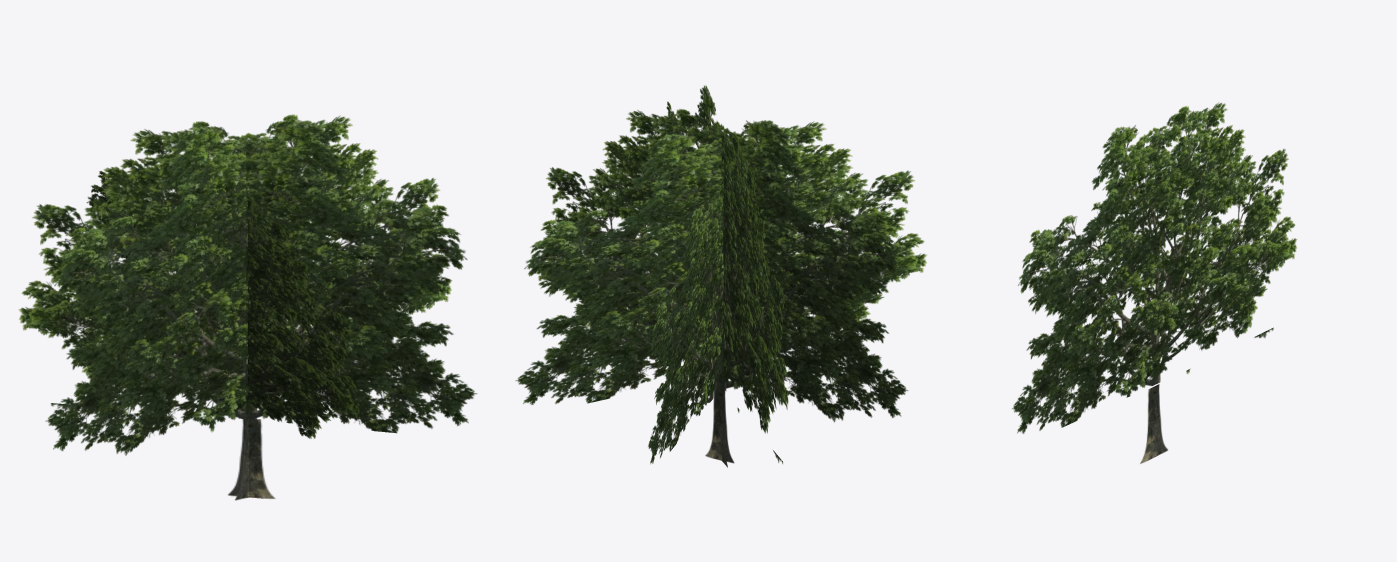
The model's file is trees_and_bush_pack_tree_small.glb.
3 renders of one model, left to right at view 1: azimuth 30°, elevation 25°; view 2: azimuth 150°, elevation 25°; view 3: azimuth 270°, elevation 25°, orthographic. The views are drawn at different scales.
Visible parts, largest first — view 1: TreeSmall; view 2: TreeSmall; view 3: TreeSmall.
Boxes of the visible parts, left/top/right/bottom form: TreeSmall: left=18, top=114, right=477, bottom=500; TreeSmall: left=515, top=85, right=926, bottom=467; TreeSmall: left=1012, top=102, right=1297, bottom=463.
Size of the model in its own units: 4.01 by 3.62 by 3.95.
1 material, 1 textured.
